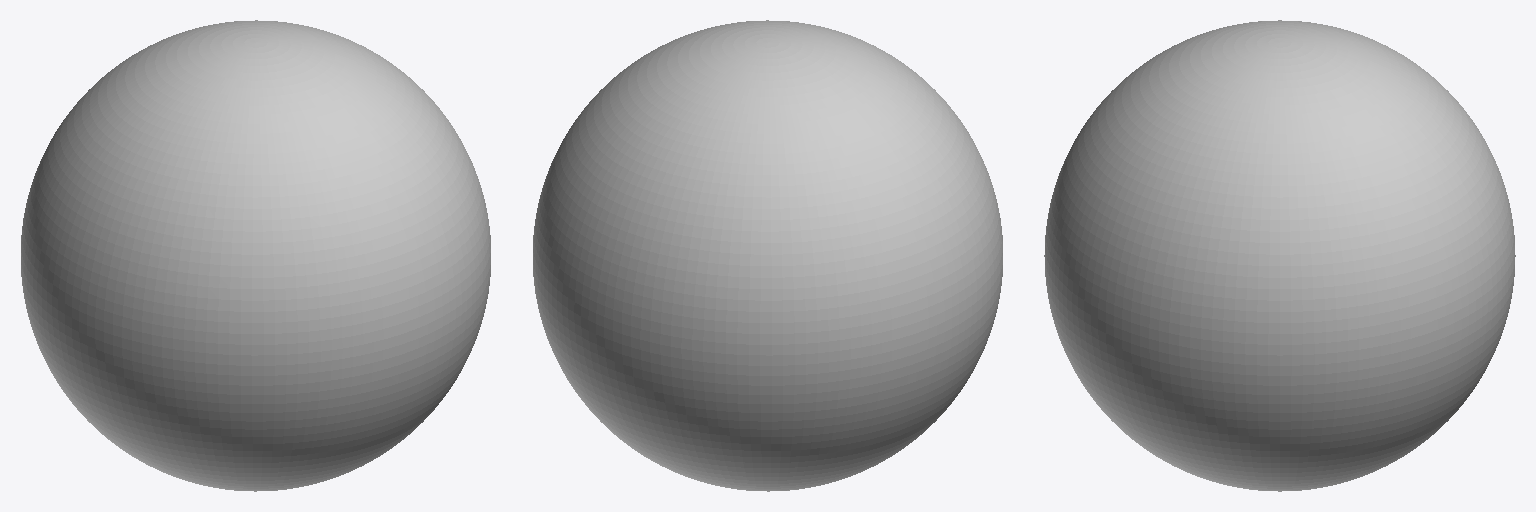
File: earth.obj
3 views of the same model, side by side, from view 1: azimuth 30°, elevation 25°; view 2: azimuth 150°, elevation 25°; view 3: azimuth 270°, elevation 25° (orthographic).
Visible parts, largest first — view 1: Earth16128Tris_Mesh; view 2: Earth16128Tris_Mesh; view 3: Earth16128Tris_Mesh.
Part boxes in pixels (left/top/right/bottom): Earth16128Tris_Mesh: left=21, top=20, right=490, bottom=491; Earth16128Tris_Mesh: left=533, top=20, right=1002, bottom=491; Earth16128Tris_Mesh: left=1044, top=20, right=1515, bottom=491.
Size of the model in its own units: 2.45 by 2.45 by 2.45.